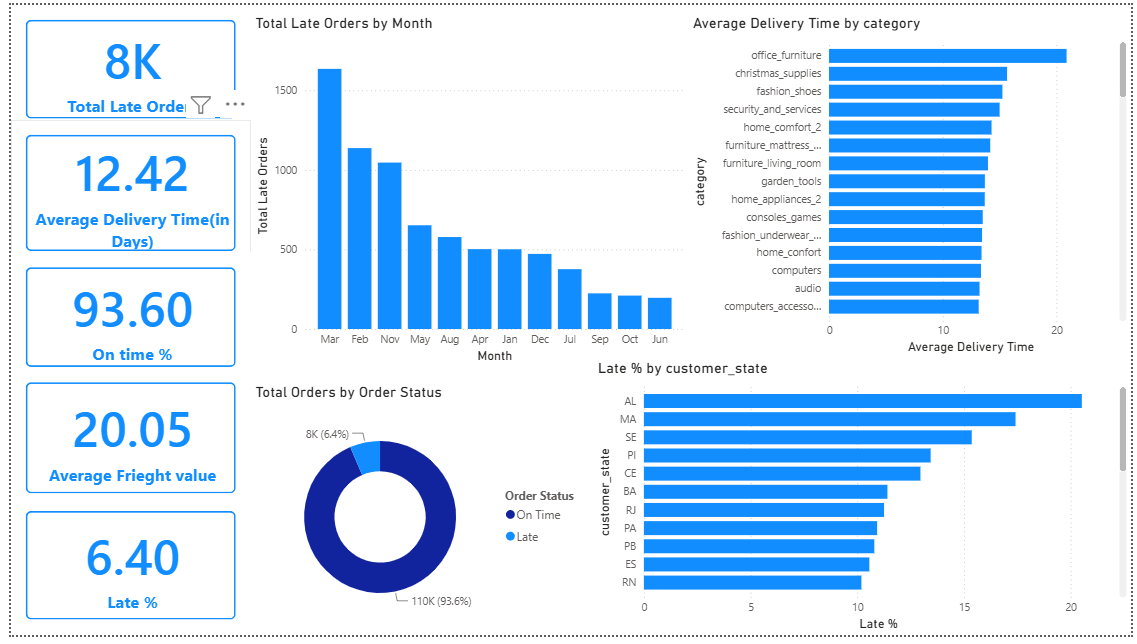

Layout of this report page (visuals, bound fields, positions):
{"tool":"powerbi","page":{"name":"Delivery and Logistics","canvas":[1280,720],"ordinal":4},"visuals":[{"type":"cardVisual","fields":{"Data":["public bi_fact_sales.Total Late Orders"]},"box":[0,0,274.3,147.1],"z":0},{"type":"cardVisual","fields":{"Data":["public bi_fact_sales.Average Delivery Time"]},"box":[0,131.4,274.3,167.1],"z":1000},{"type":"cardVisual","fields":{"Data":["public bi_fact_sales.On time %"]},"box":[0,282.9,274.3,148.6],"z":2000},{"type":"columnChart","fields":{"Y":["public bi_fact_sales.Total Late Orders"],"Category":["DimDate.Month"]},"box":[274.3,10,500,404.3],"z":3000},{"type":"barChart","fields":{"Y":["public bi_fact_sales.Average Delivery Time"],"Category":["public bi_fact_sales.category"]},"box":[774.3,10,505.7,394.3],"z":4000},{"type":"donutChart","fields":{"Category":["public bi_fact_sales.Order Status"],"Y":["public bi_fact_sales.Total Orders"]},"box":[274.3,431.4,391.4,288.6],"z":5000},{"type":"cardVisual","fields":{"Data":["public bi_fact_sales.Average Frieght value"]},"box":[0,414.3,274.3,161.4],"z":6000},{"type":"cardVisual","fields":{"Data":["public bi_fact_sales.Late %"]},"box":[0,561.4,274.3,158.6],"z":7000},{"type":"barChart","fields":{"Category":["public bi_fact_sales.customer_state"],"Y":["public bi_fact_sales.Late %"]},"box":[665.7,404.3,614.3,315.7],"z":8000}]}

Visuals, with their boxes in screenshot pixels (x1, y1, x2, y2), scaled from the page's 1280x720 canvas onto the 1137x644 screenshot:
cardVisual - public bi_fact_sales.Total Late Orders: (0, 0, 244, 132)
cardVisual - public bi_fact_sales.Average Delivery Time: (0, 118, 244, 267)
cardVisual - public bi_fact_sales.On time %: (0, 253, 244, 386)
columnChart - public bi_fact_sales.Total Late Orders x DimDate.Month: (244, 9, 688, 371)
barChart - public bi_fact_sales.Average Delivery Time x public bi_fact_sales.category: (688, 9, 1136, 362)
donutChart - public bi_fact_sales.Order Status x public bi_fact_sales.Total Orders: (244, 386, 591, 643)
cardVisual - public bi_fact_sales.Average Frieght value: (0, 371, 244, 515)
cardVisual - public bi_fact_sales.Late %: (0, 502, 244, 643)
barChart - public bi_fact_sales.customer_state x public bi_fact_sales.Late %: (591, 362, 1136, 643)
